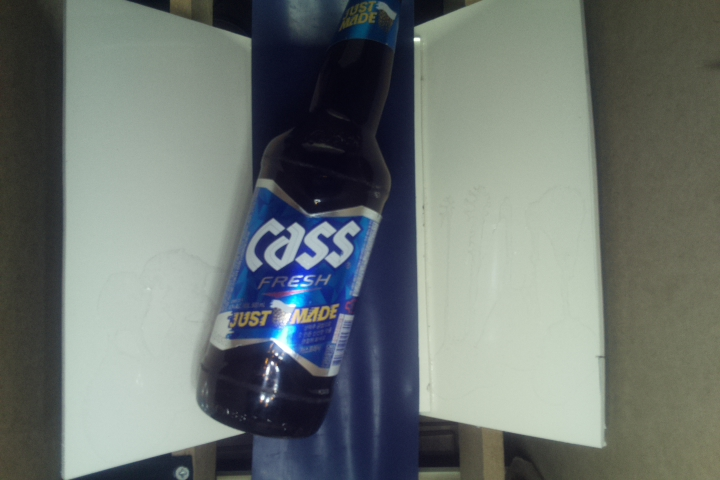makju: (195, 1, 414, 440)
